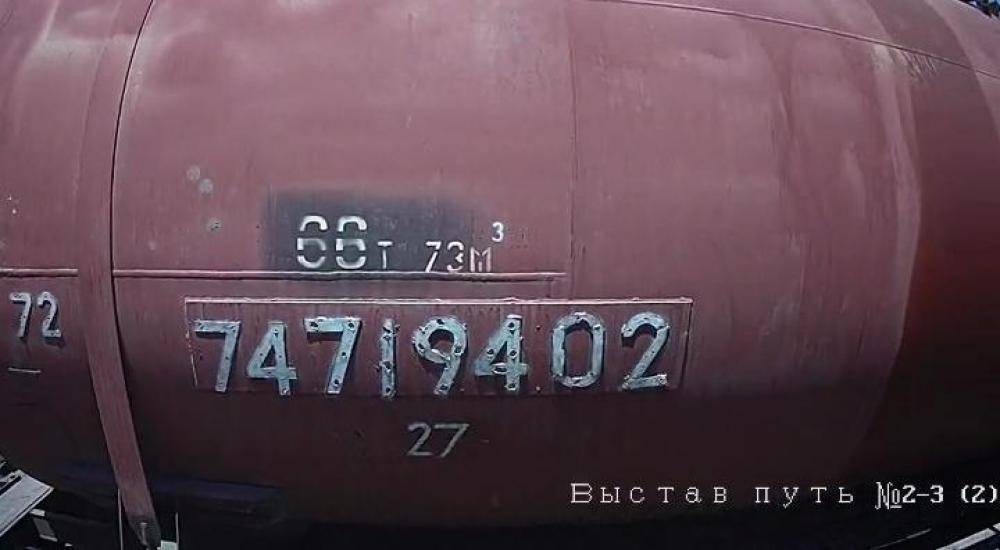Wagon-number: (188, 303, 680, 401)
